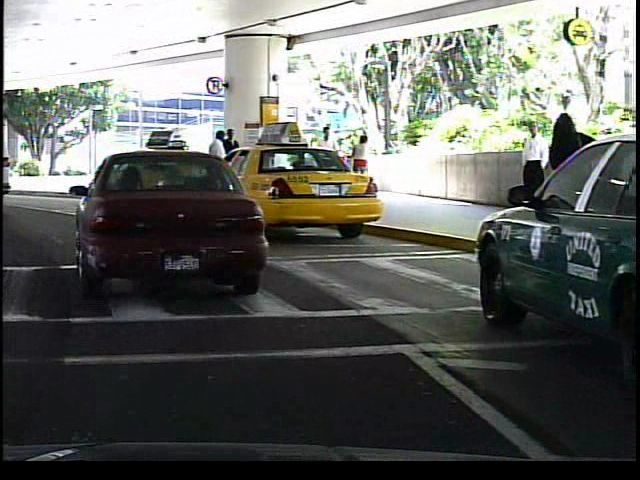person: (541, 105, 598, 257), (511, 113, 550, 222), (310, 122, 340, 194), (204, 128, 230, 199), (346, 130, 374, 192), (222, 125, 241, 195)
